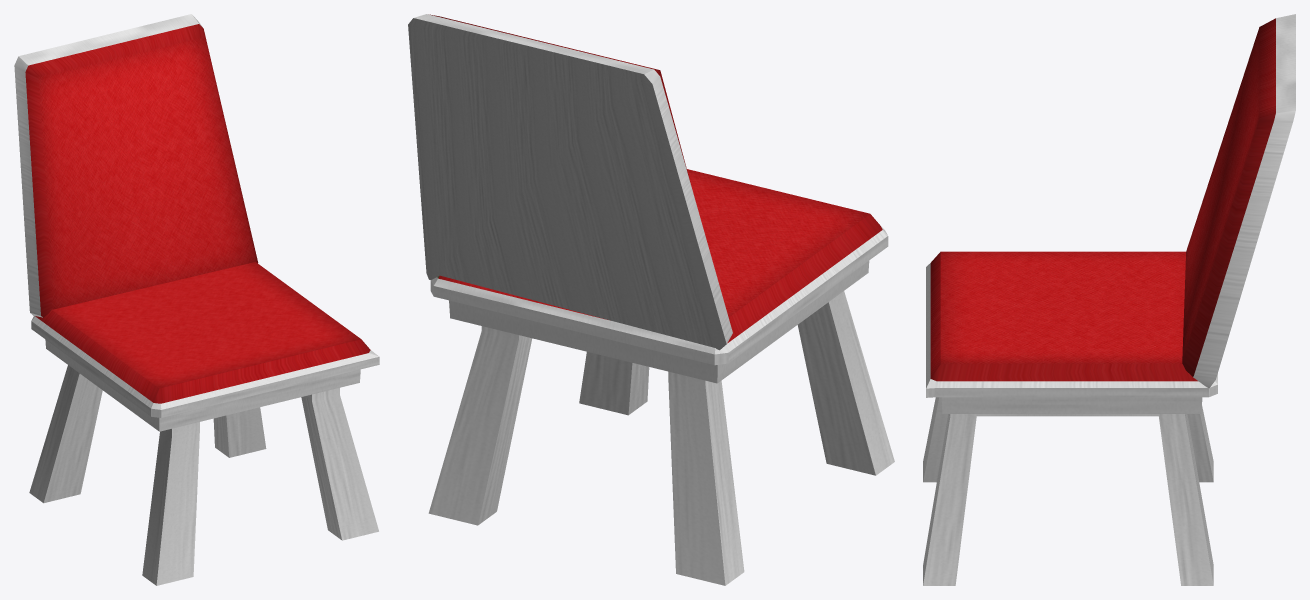
The model's file is Dining_Room_Chair_E_2.FBX.
3 views of the same model, side by side, from view 1: azimuth 30°, elevation 25°; view 2: azimuth 150°, elevation 25°; view 3: azimuth 270°, elevation 25° (orthographic). The views are drawn at different scales.
Visible parts, largest first — view 1: Dining_Chair; view 2: Dining_Chair; view 3: Dining_Chair.
Part boxes in pixels (<box>): Dining_Chair: <box>14,14,379,585</box>; Dining_Chair: <box>408,14,894,585</box>; Dining_Chair: <box>923,14,1295,585</box>.
Size of the model in its own units: 121 by 208 by 152.
